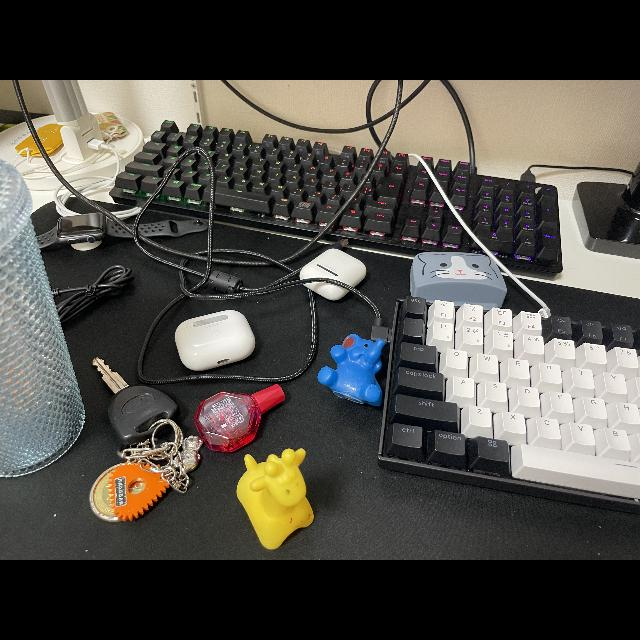airpod2: (294, 239, 370, 301)
airpod3: (170, 303, 262, 371)
